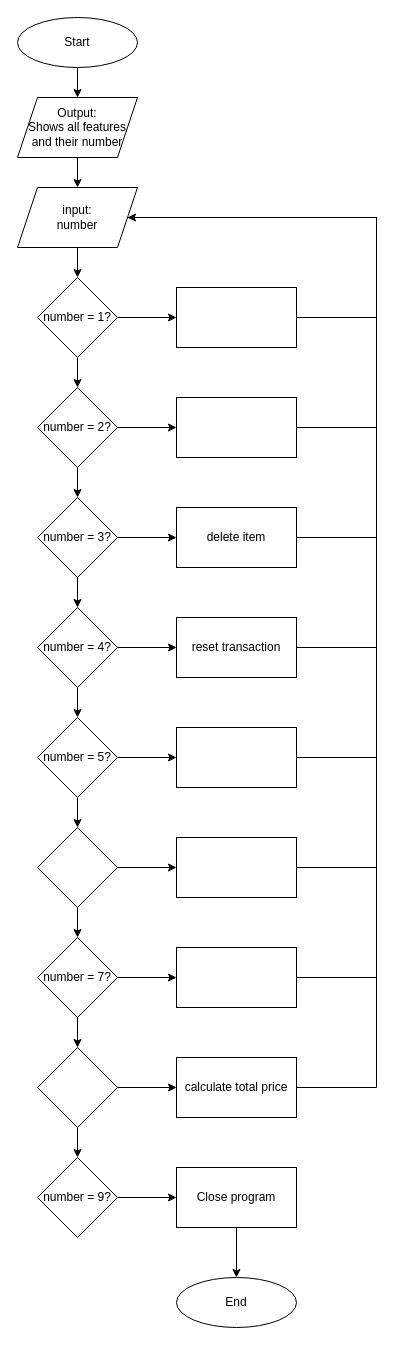
This 402x1345 diagram has some shape labels left out. The shapes that lost their labels are listed below. From the top down, each one's centre as x and y in pixels, then its label:
At (236,317): "add items".
At (236,427): "check order".
At (236,757): "update item name".
At (77,867): "number = 6?".
At (236,867): "update item quantity".
At (236,977): "update item price".
At (77,1087): "number = 8?".
